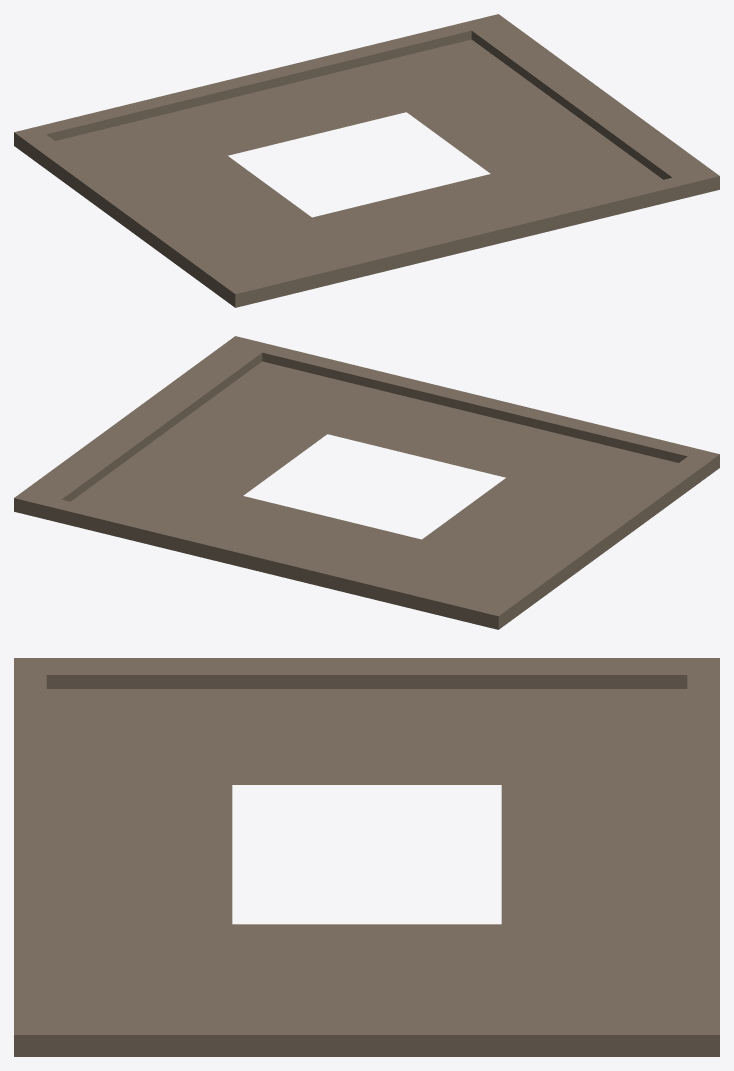
The model's file is Apt6_Roof.fbx.
3 views of the same model, one above another, from view 1: azimuth 30°, elevation 25°; view 2: azimuth 150°, elevation 25°; view 3: azimuth 270°, elevation 25° (orthographic). The views are drawn at different scales.
Parts seen in each view (by area): view 1: Apt6_Roof; view 2: Apt6_Roof; view 3: Apt6_Roof.
Boxes of the visible parts, x1=… form: Apt6_Roof: x1=14, y1=14, x2=719, y2=307; Apt6_Roof: x1=14, y1=336, x2=719, y2=629; Apt6_Roof: x1=14, y1=658, x2=719, y2=1056.
Size of the model in its own units: 2655 by 71.59 by 2101.
